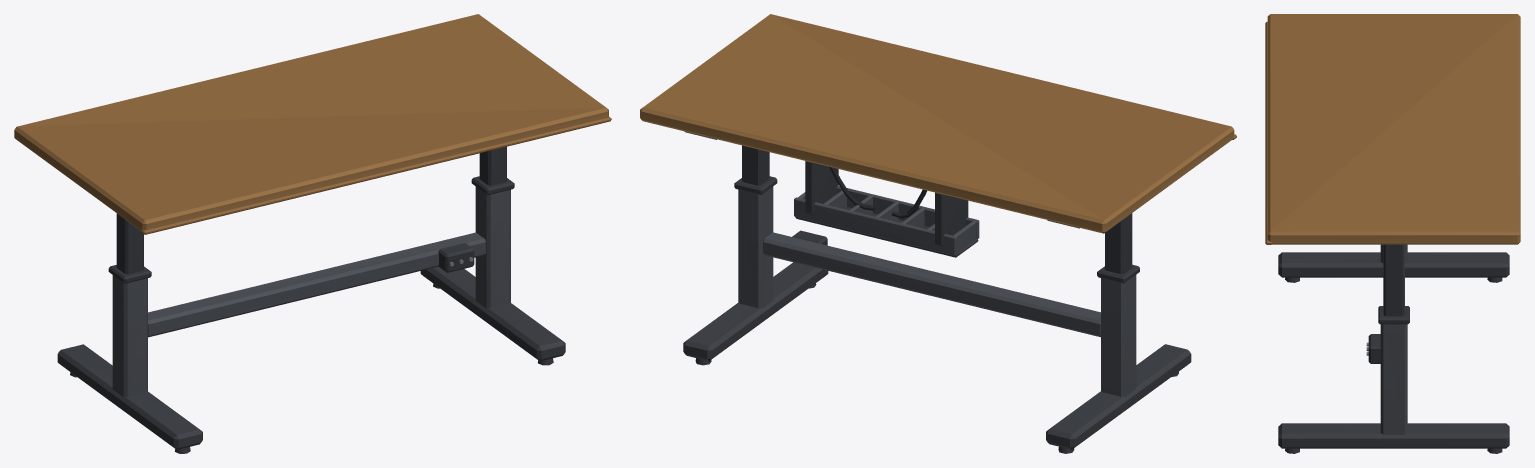
The model's file is standing_desk.glb.
3 renders of one model, left to right at view 1: azimuth 30°, elevation 25°; view 2: azimuth 150°, elevation 25°; view 3: azimuth 270°, elevation 25°, orthographic. The views are drawn at different scales.
Parts seen in each view (by area): view 1: standing_desk; view 2: standing_desk; view 3: standing_desk.
Boxes of the visible parts, x1,y1,x2,y2 form: standing_desk: (14,14,611,453); standing_desk: (640,14,1236,453); standing_desk: (1265,14,1520,453).
Size of the model in its own units: 1.44 by 0.74 by 0.706.
